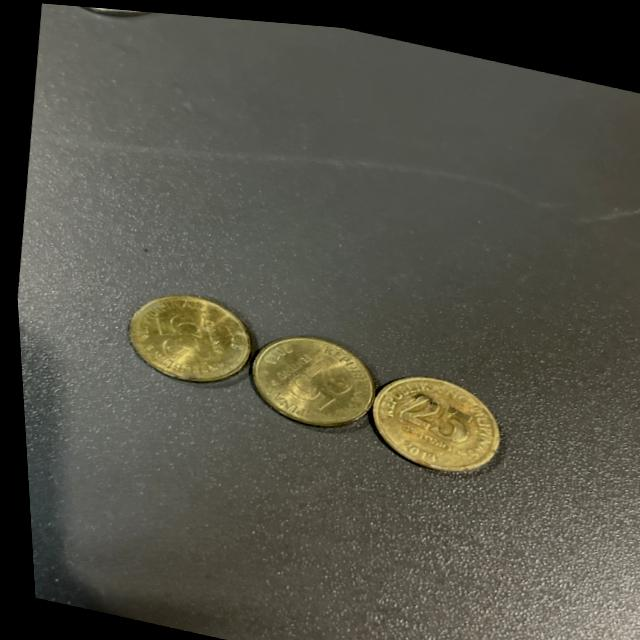25Cent_Old_Front: (371, 368, 474, 457)
